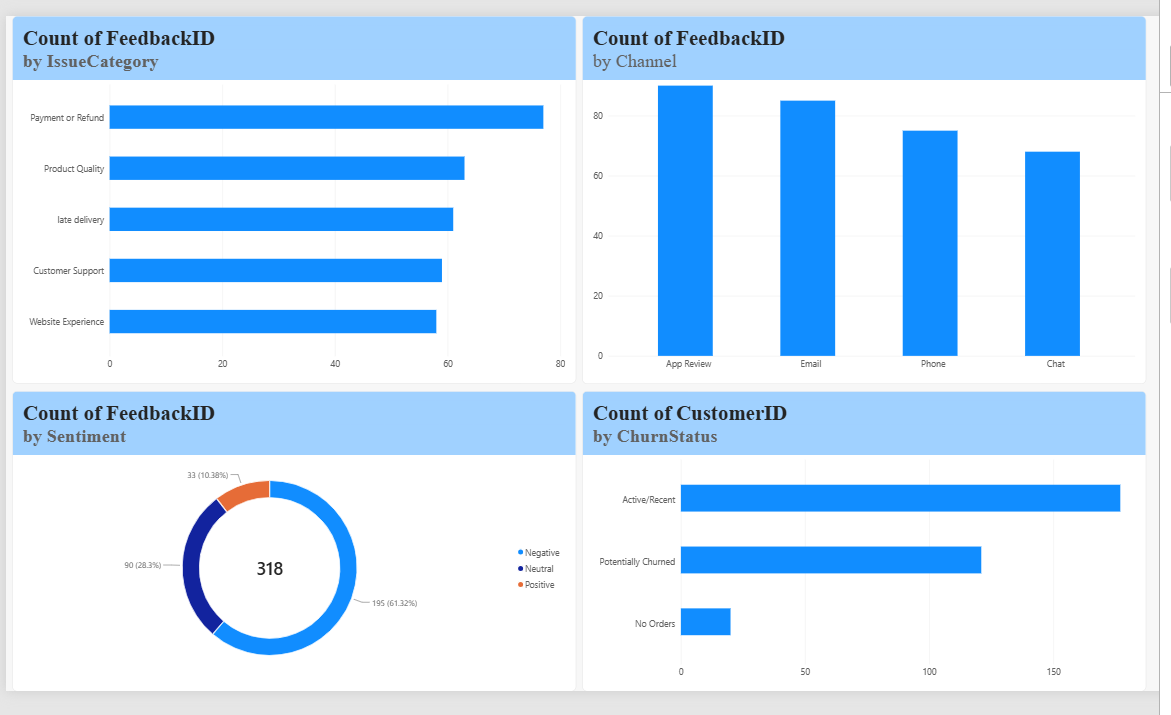

The page's visual inventory and layout, read from the dashboard file:
{"tool":"powerbi","page":{"name":"Customer Intelligence","canvas":[1920,1080],"ordinal":1},"visuals":[{"type":"clusteredBarChart","fields":{"Category":["Feedback.IssueCategory"],"Y":["CountNonNull(Feedback.FeedbackID)"]},"box":[10,0,902,588],"z":0},{"type":"donutChart","fields":{"Category":["Feedback.Sentiment"],"Y":["CountNonNull(Feedback.FeedbackID)"]},"box":[10,599,902,481],"z":1},{"type":"clusteredColumnChart","fields":{"Category":["Feedback.Channel"],"Y":["CountNonNull(Feedback.FeedbackID)"]},"box":[922,0,902,589],"z":2},{"type":"clusteredBarChart","fields":{"Category":["Feedback.ChurnStatus"],"Y":["CountNonNull(Feedback.CustomerID)"]},"box":[922,599,902,481],"z":3}]}

Visuals, with their boxes on the page's 1920x1080 design canvas (x1, y1, x2, y2). These are canvas units, not pixel positions in the 1171x715 screenshot, which may show the page scaled, cropped or inside an application window:
clusteredBarChart - Feedback.IssueCategory x CountNonNull(Feedback.FeedbackID): {"left": 10, "top": 0, "right": 912, "bottom": 588}
donutChart - Feedback.Sentiment x CountNonNull(Feedback.FeedbackID): {"left": 10, "top": 599, "right": 912, "bottom": 1080}
clusteredColumnChart - Feedback.Channel x CountNonNull(Feedback.FeedbackID): {"left": 922, "top": 0, "right": 1824, "bottom": 589}
clusteredBarChart - Feedback.ChurnStatus x CountNonNull(Feedback.CustomerID): {"left": 922, "top": 599, "right": 1824, "bottom": 1080}
